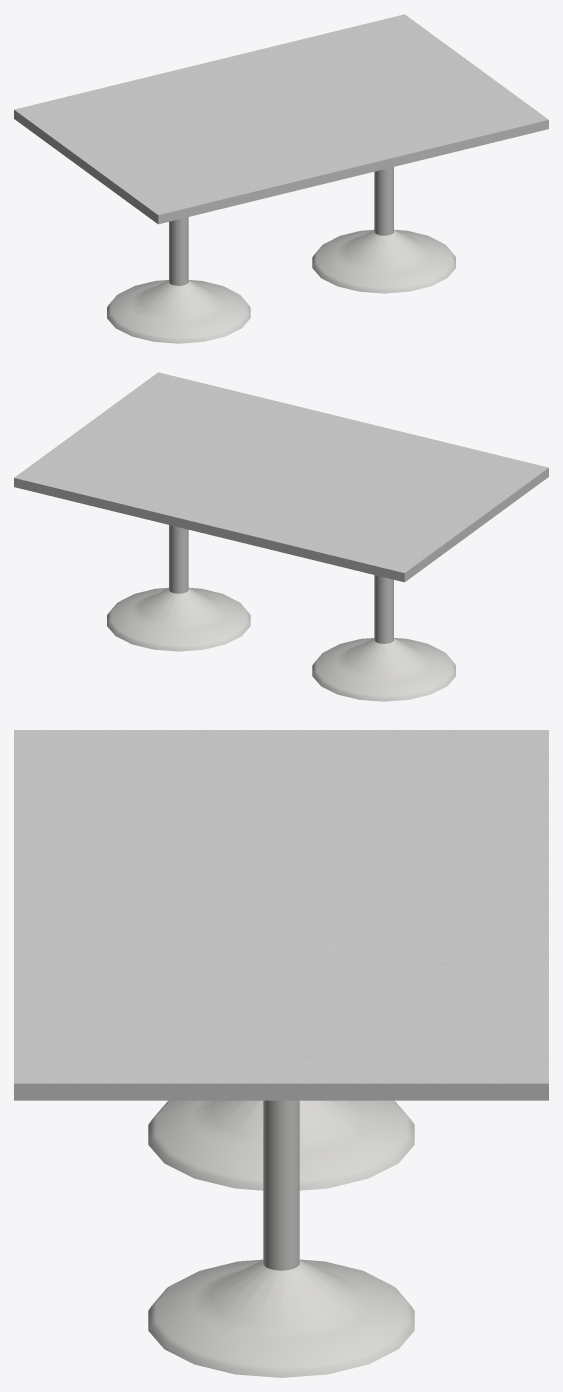
Rendered from Table02.FBX.
3 views of the same model, one above another, from view 1: azimuth 30°, elevation 25°; view 2: azimuth 150°, elevation 25°; view 3: azimuth 270°, elevation 25° (orthographic). The views are drawn at different scales.
Visible parts, largest first — view 1: Table01_2; view 2: Table01_2; view 3: Table01_2.
Boxes of the visible parts, box(x1,y1,x2,y2) form: Table01_2: box(14, 14, 548, 343); Table01_2: box(14, 372, 548, 701); Table01_2: box(14, 730, 548, 1377).
Bounding box in the file's own units: 177 × 75 × 113.
